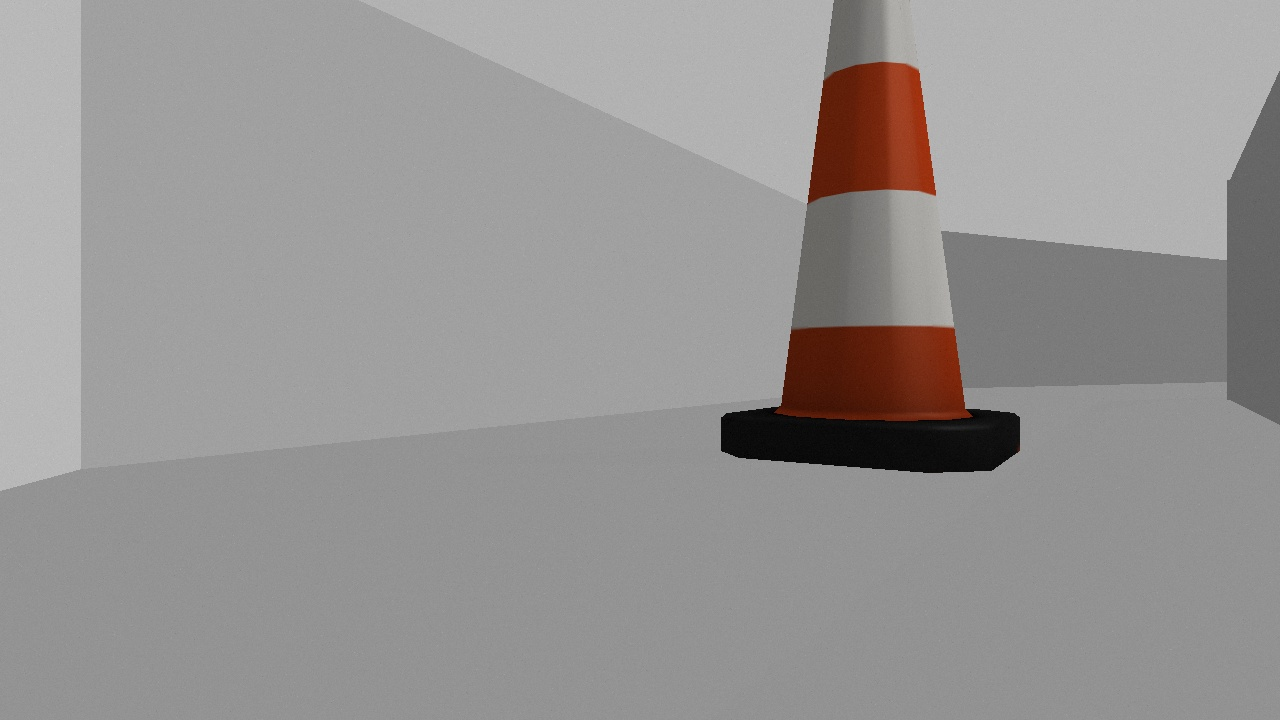barricade: (718, 1, 1024, 473)
